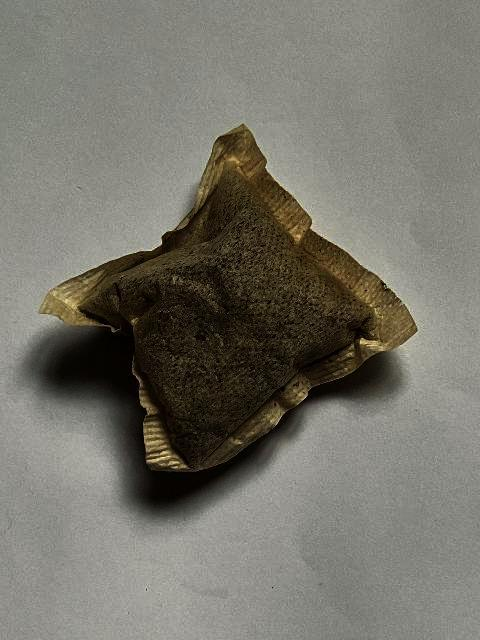teabag: (37, 122, 419, 474)
